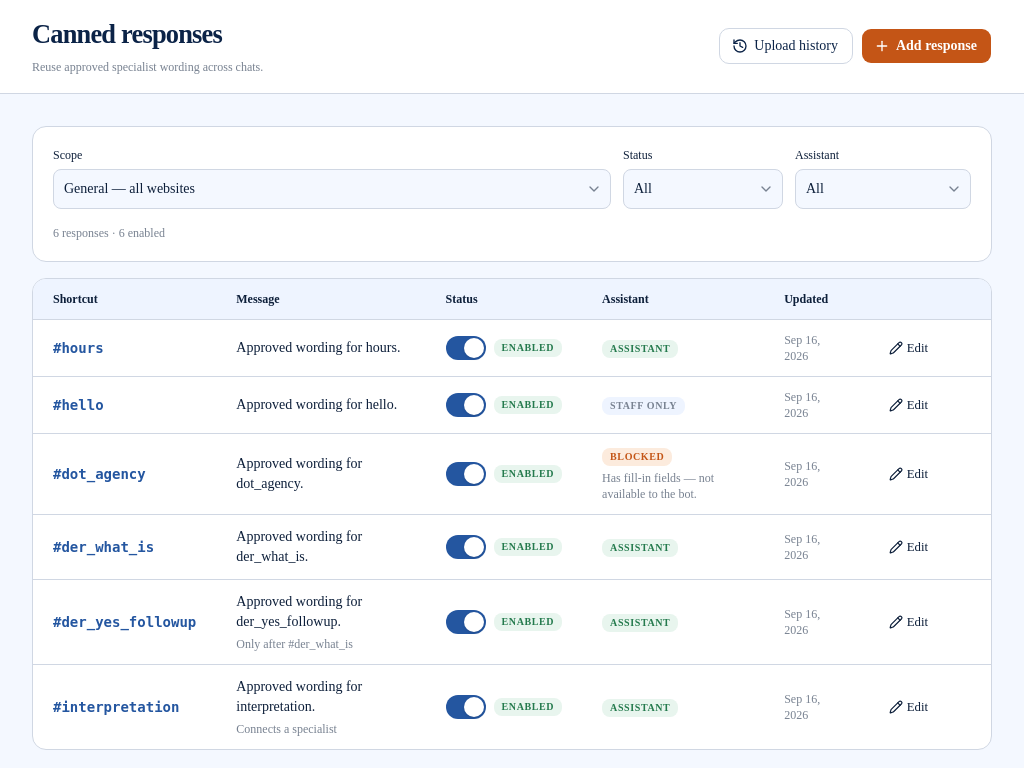
Test: canned responses: editor fields › offers only other scripts to follow, and can clear the link
Click the 5th button "Edit": (908, 622) 878,608 -> 939,636
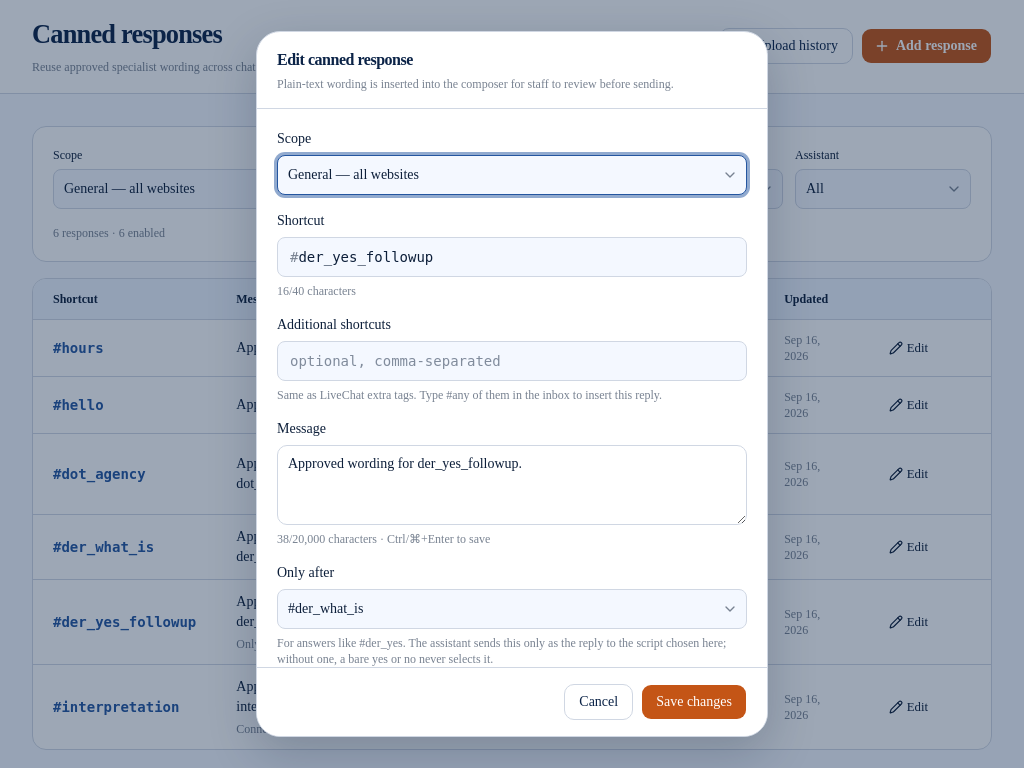
Click the dropdown named "Only after": (326, 608) 277,589 -> 747,629
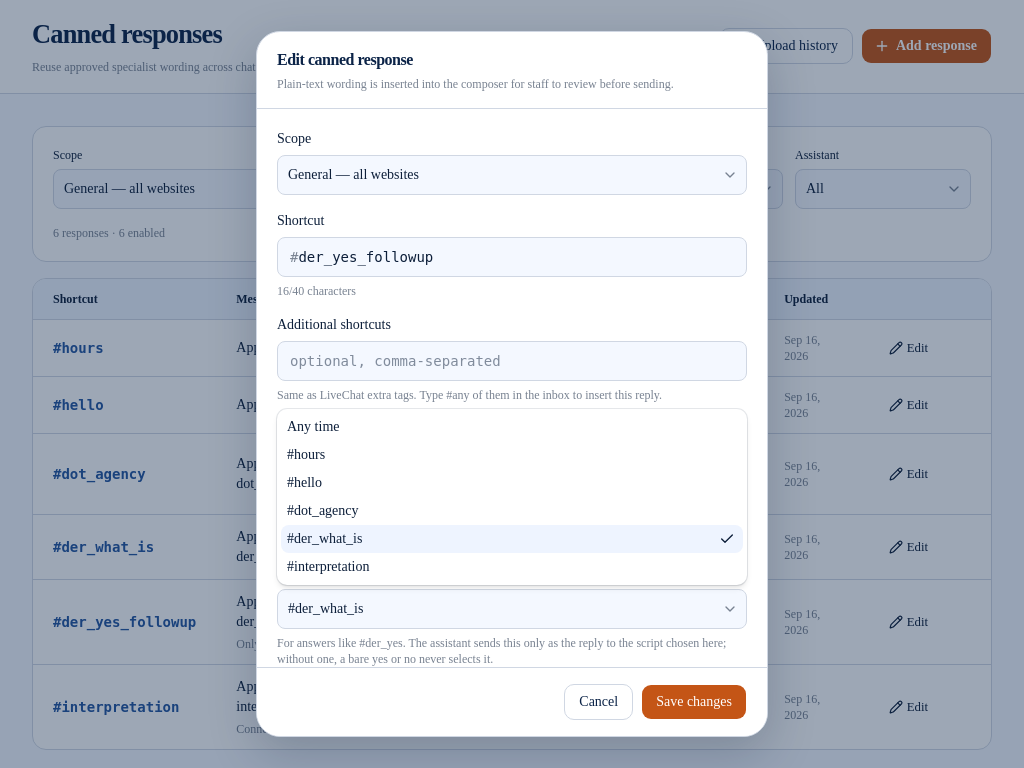
Check: the option "#der_what_is" is shown, box 281,525 -> 743,553
Click the option "Any time": (313, 426) 287,419 -> 340,434
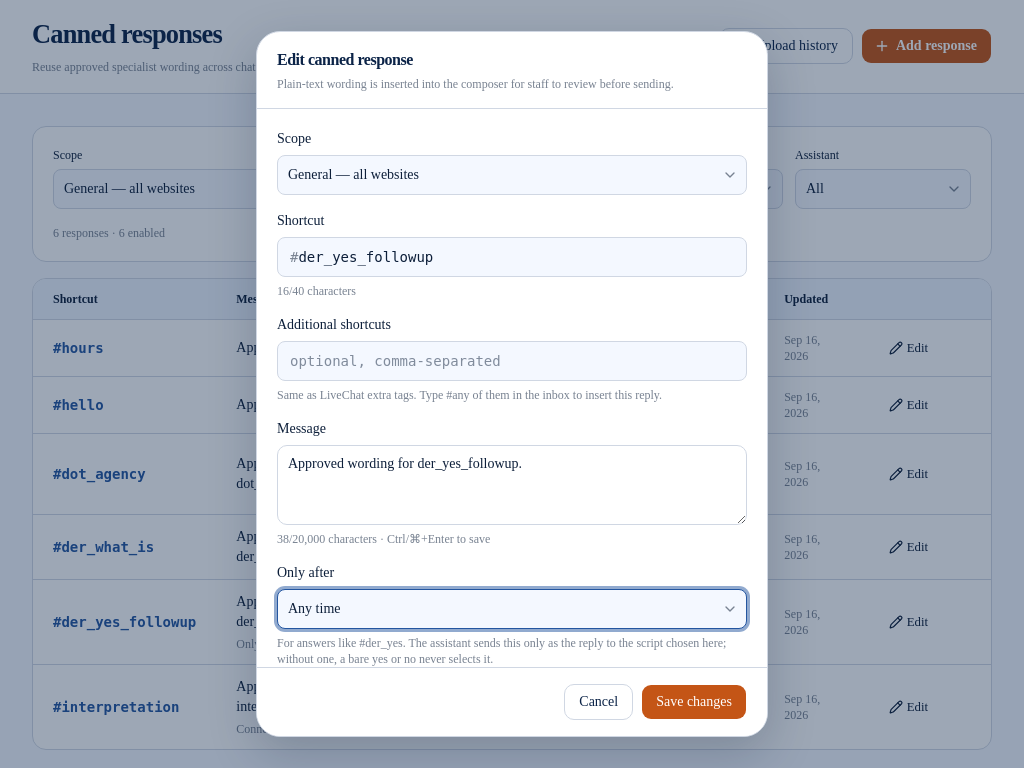
Click the button "Save changes": (694, 702) 641,684 -> 747,720
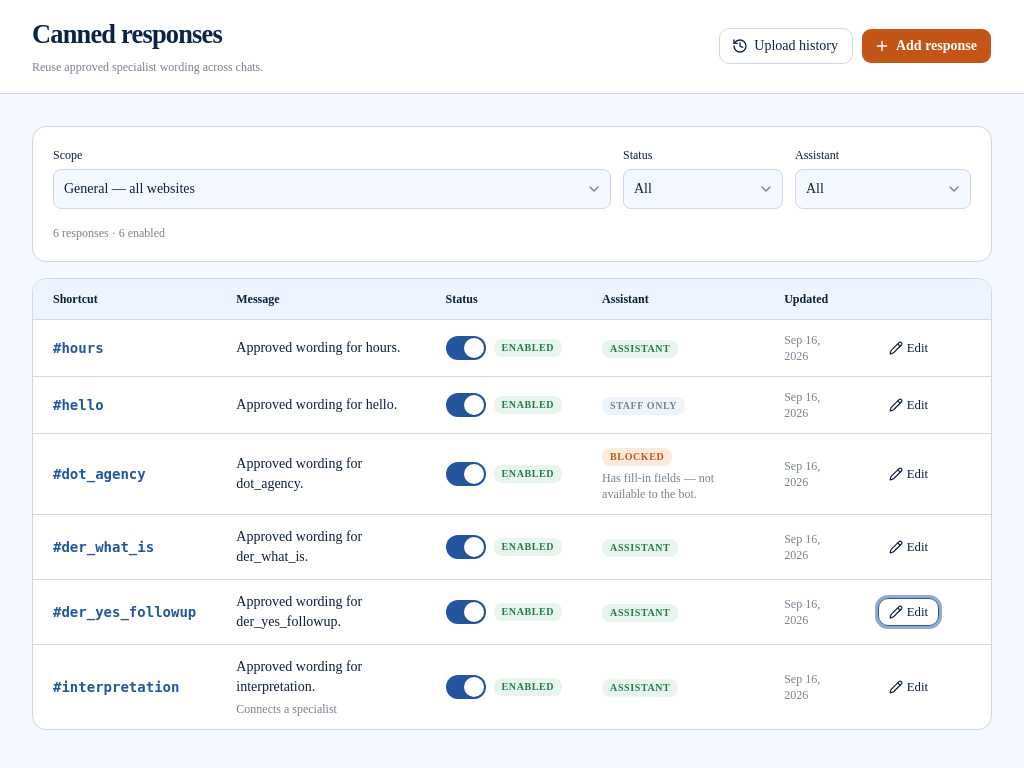
Check: the dialog is gone
